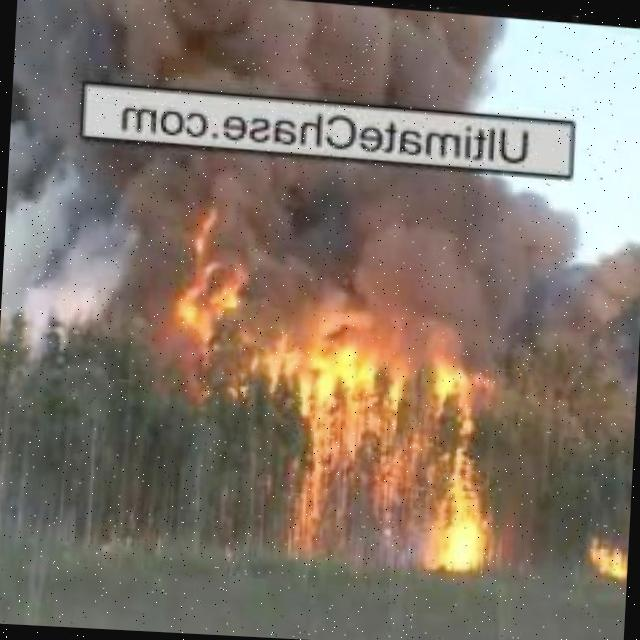fire: (274, 359, 517, 593), (153, 227, 255, 356), (583, 533, 629, 577)
